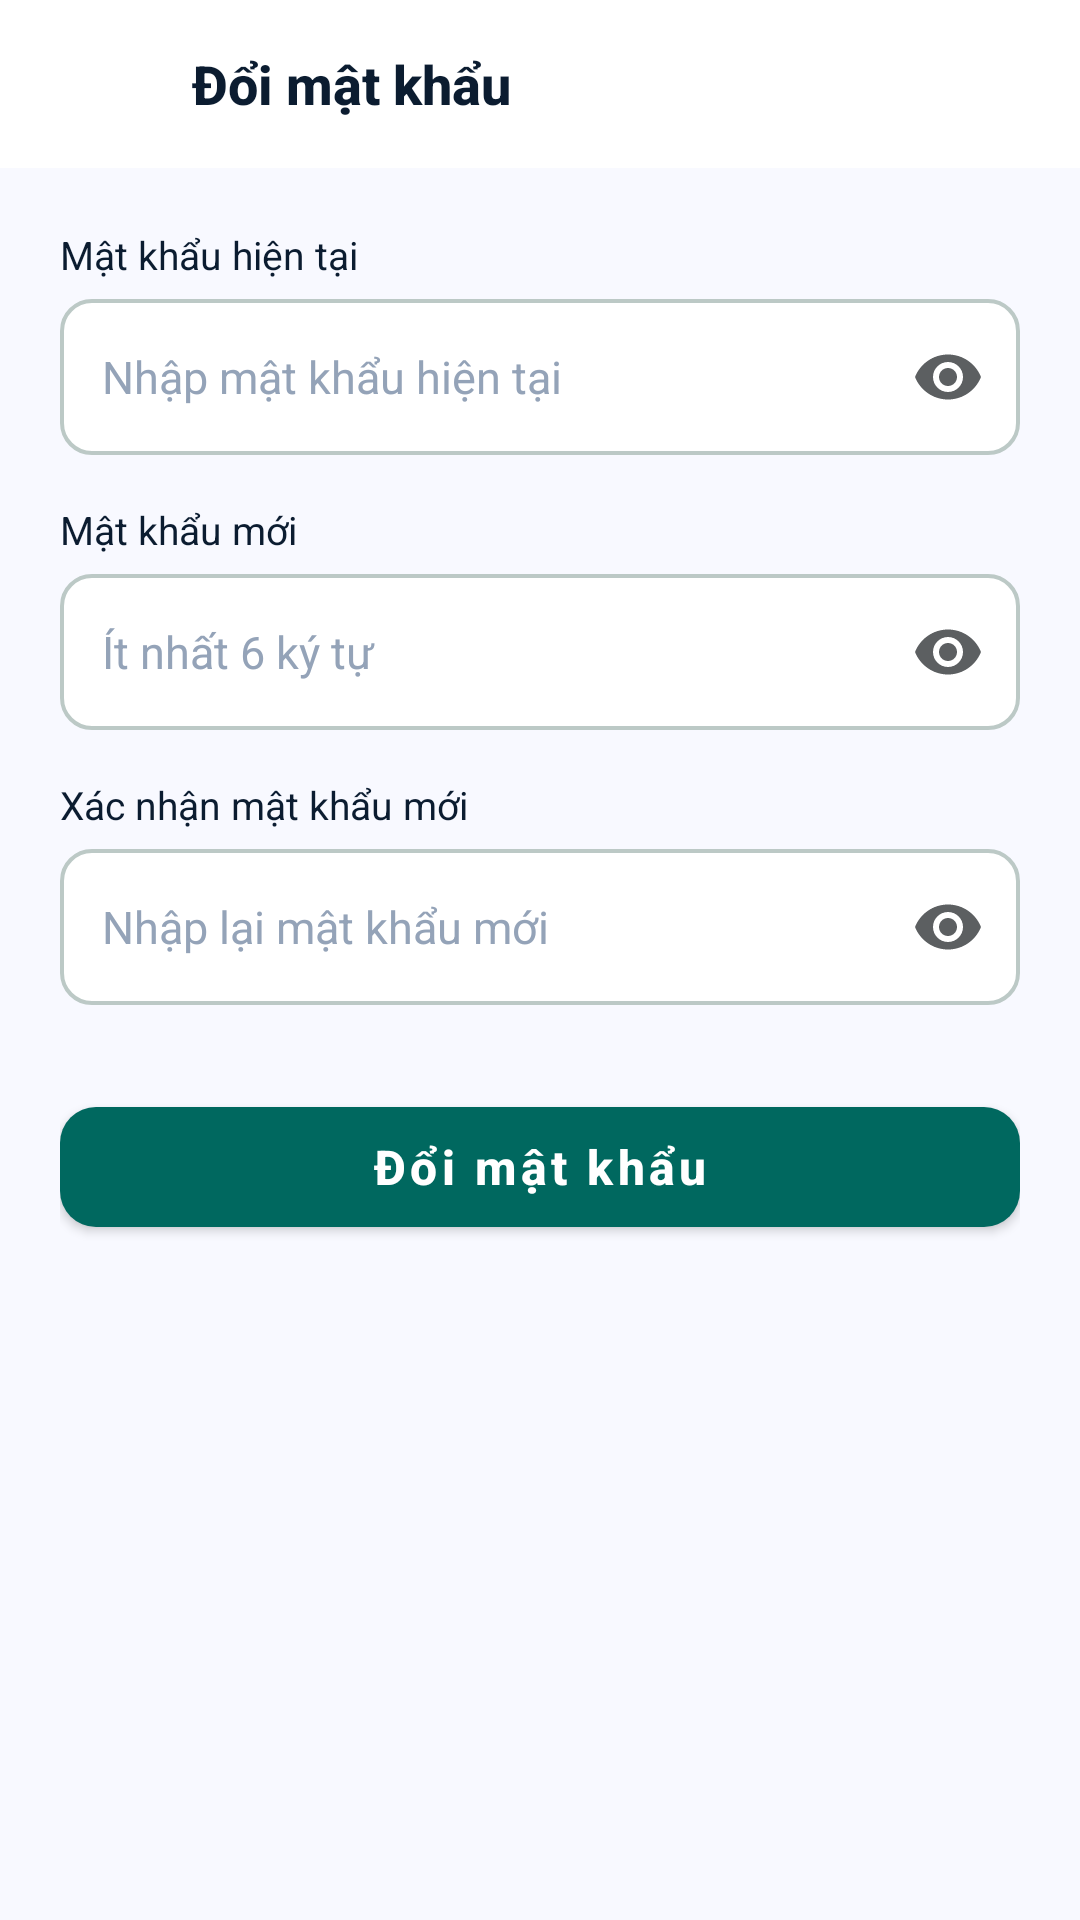

Icons on this 1080 × 1920 Android screen, each with its box as Rect(x1, y1, x2, y2):
Ẩn/hiện mật khẩu: Rect(915, 354, 981, 400), Rect(915, 629, 981, 675), Rect(915, 904, 981, 950)
